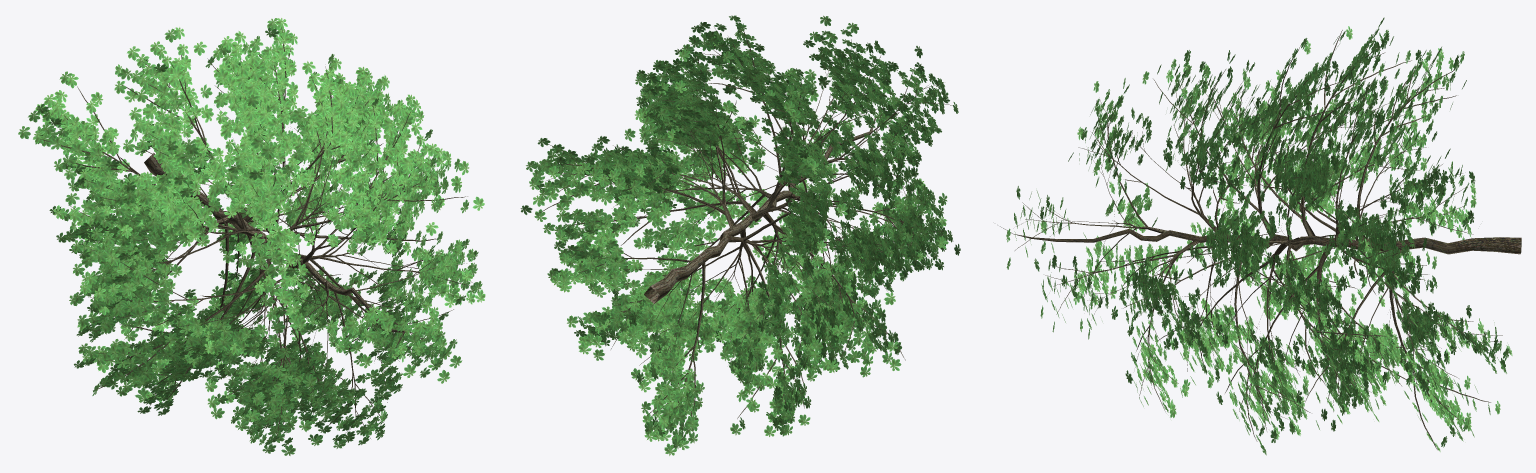
File: kastanja1.obj
3 views of the same model, side by side, from view 1: azimuth 30°, elevation 25°; view 2: azimuth 150°, elevation 25°; view 3: azimuth 270°, elevation 25° (orthographic). The views are drawn at different scales.
Parts seen in each view (by area): view 1: object; view 2: object; view 3: object.
Boxes of the visible parts, x1,y1,x2,y2 form: object: (18, 18, 485, 455); object: (520, 15, 960, 455); object: (1000, 17, 1521, 455).
Size of the model in its own units: 9.72 by 9.86 by 11.44.
2 materials, 2 textured.
